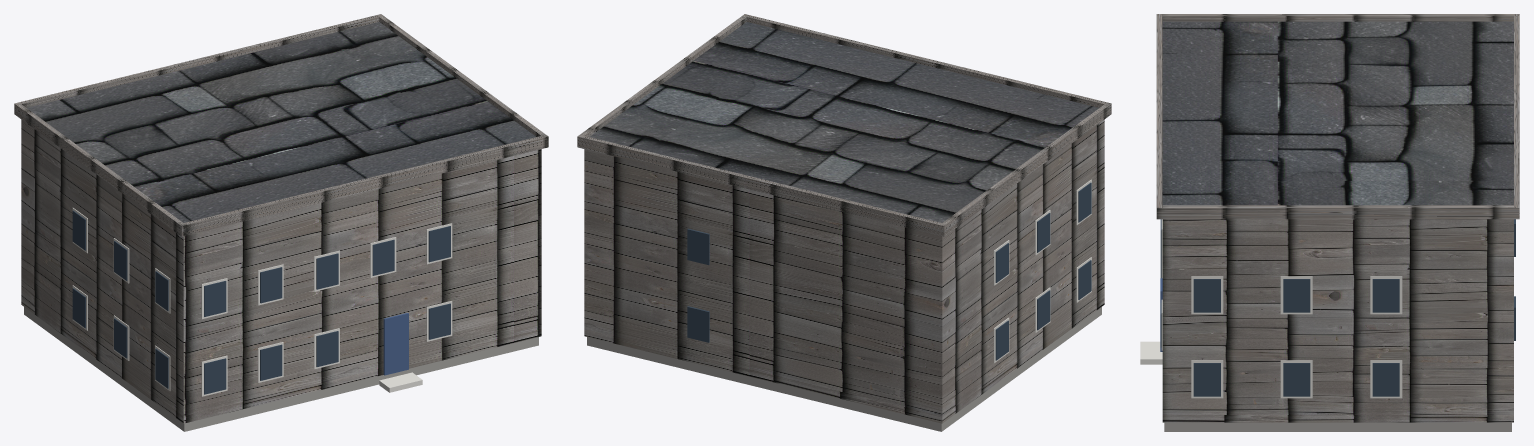
The model's file is asset.glb.
3 views of the same model, side by side, from view 1: azimuth 30°, elevation 25°; view 2: azimuth 150°, elevation 25°; view 3: azimuth 270°, elevation 25° (orthographic). The views are drawn at different scales.
Parts seen in each view (by area): view 1: body, roof_slab, parapet, foundation, parapet.001, parapet.002, parapet.003, door, win.014, win.013, win, win.002 (+6 smaller); view 2: body, roof_slab, parapet.001, foundation, parapet, parapet.002, parapet.003, win.010, win.022; view 3: roof_slab, body, parapet.003, foundation, parapet.002, parapet, parapet.001, win.007, win.008, win.009, win.019, win.020 (+8 smaller).
Boxes of the visible parts, x1=… form: body: x1=21, y1=119, x2=541, y2=423; roof_slab: x1=27, y1=22, x2=535, y2=222; parapet: x1=180, y1=135, x2=548, y2=236; foundation: x1=24, y1=307, x2=538, y2=431; parapet.001: x1=17, y1=14, x2=382, y2=107; parapet.002: x1=14, y1=102, x2=185, y2=236; parapet.003: x1=377, y1=14, x2=548, y2=137; door: x1=383, y1=313, x2=408, y2=375; win.014: x1=372, y1=239, x2=394, y2=275; win.013: x1=316, y1=253, x2=338, y2=289; win: x1=204, y1=358, x2=226, y2=394; win.002: x1=316, y1=331, x2=338, y2=366; body: x1=584, y1=119, x2=1104, y2=423; roof_slab: x1=590, y1=22, x2=1098, y2=222; parapet.001: x1=577, y1=136, x2=945, y2=236; foundation: x1=587, y1=307, x2=1101, y2=431; parapet: x1=742, y1=14, x2=1109, y2=107; parapet.002: x1=940, y1=102, x2=1111, y2=236; parapet.003: x1=577, y1=15, x2=748, y2=136; win.010: x1=687, y1=306, x2=709, y2=342; win.022: x1=687, y1=228, x2=709, y2=265; roof_slab: x1=1162, y1=21, x2=1513, y2=205; body: x1=1162, y1=219, x2=1513, y2=422; parapet.003: x1=1157, y1=205, x2=1519, y2=219; foundation: x1=1164, y1=422, x2=1511, y2=431; parapet.002: x1=1157, y1=14, x2=1517, y2=21; parapet: x1=1156, y1=14, x2=1162, y2=218; parapet.001: x1=1514, y1=14, x2=1519, y2=207; win.007: x1=1193, y1=363, x2=1220, y2=396; win.008: x1=1283, y1=363, x2=1310, y2=396; win.009: x1=1372, y1=363, x2=1399, y2=396; win.019: x1=1193, y1=279, x2=1220, y2=312; win.020: x1=1283, y1=279, x2=1310, y2=312.
Size of the model in its own units: 14.36 by 7.85 by 11.88.
6 materials, 2 textured.
